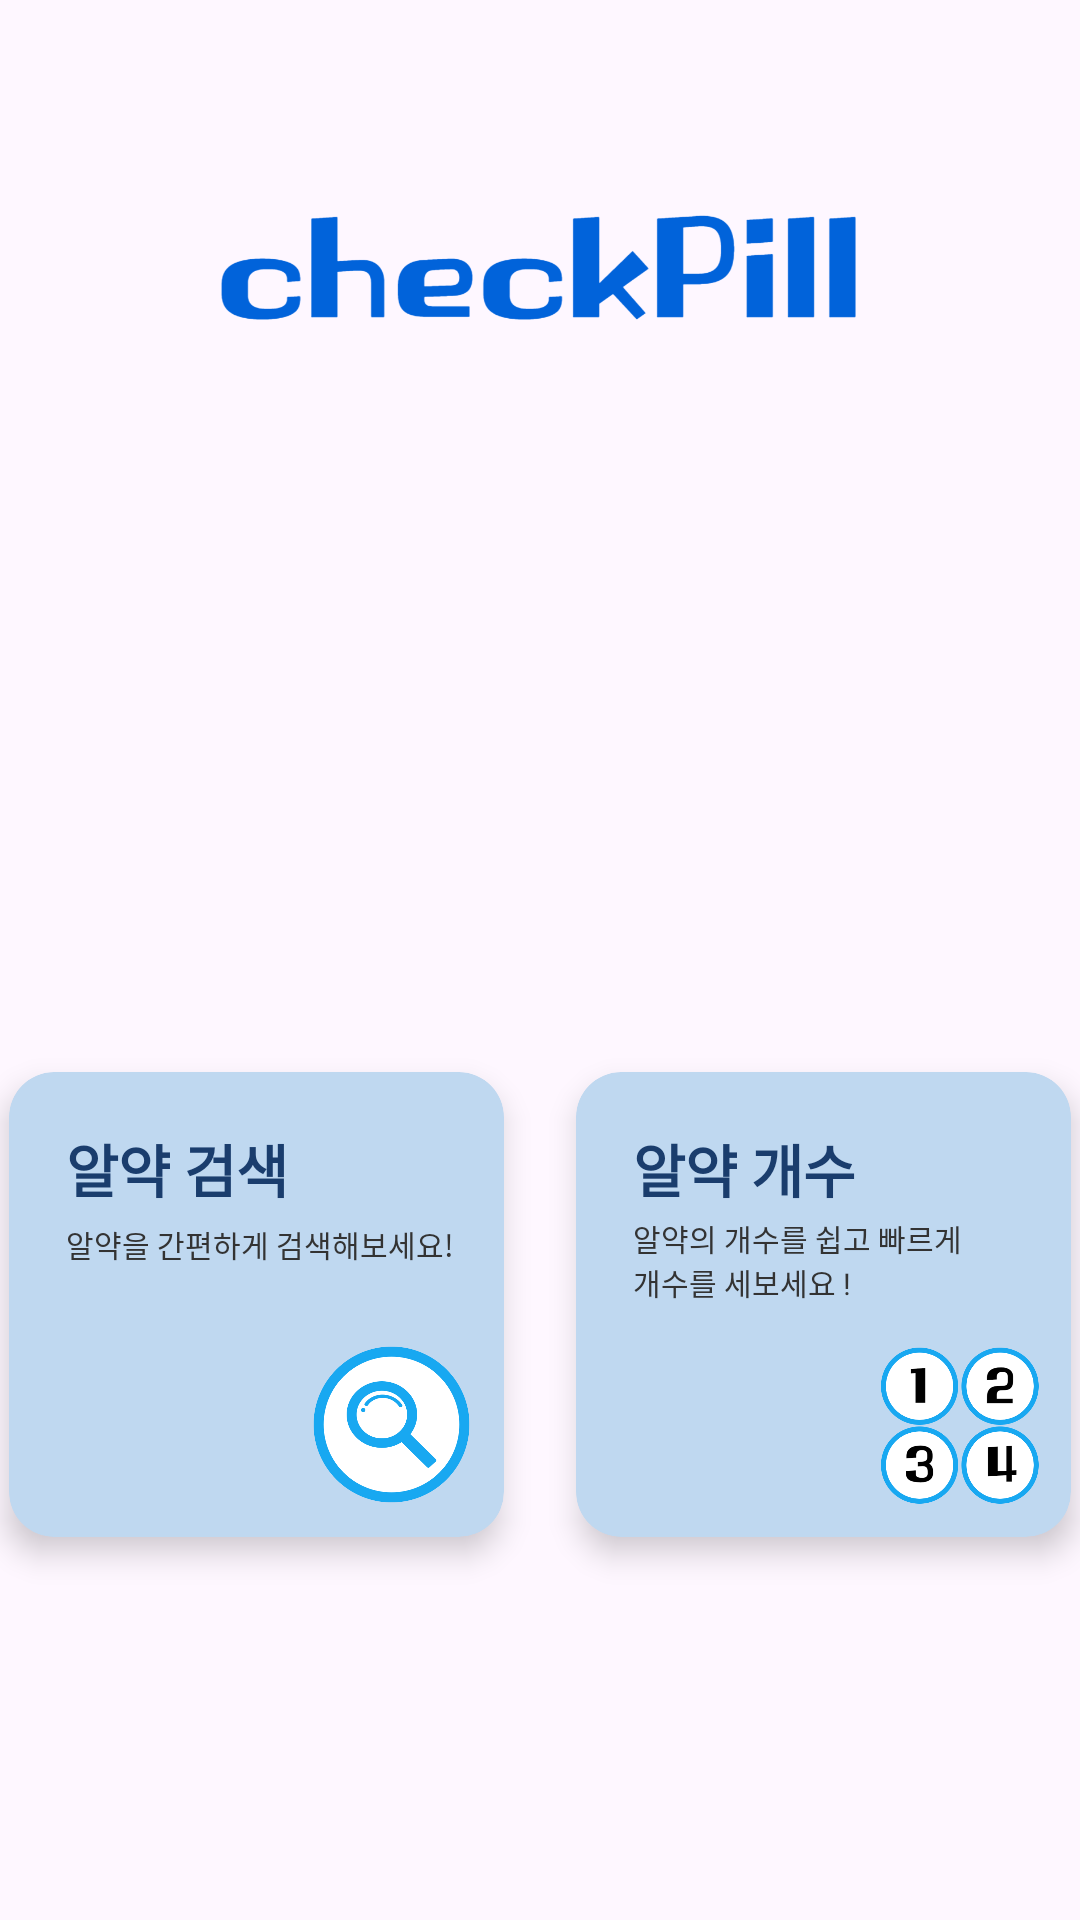

Icons on this 1080x1920 Android screen, each with the point to tap as [x,y]:
num: [960,1425]
search: [391,1424]
